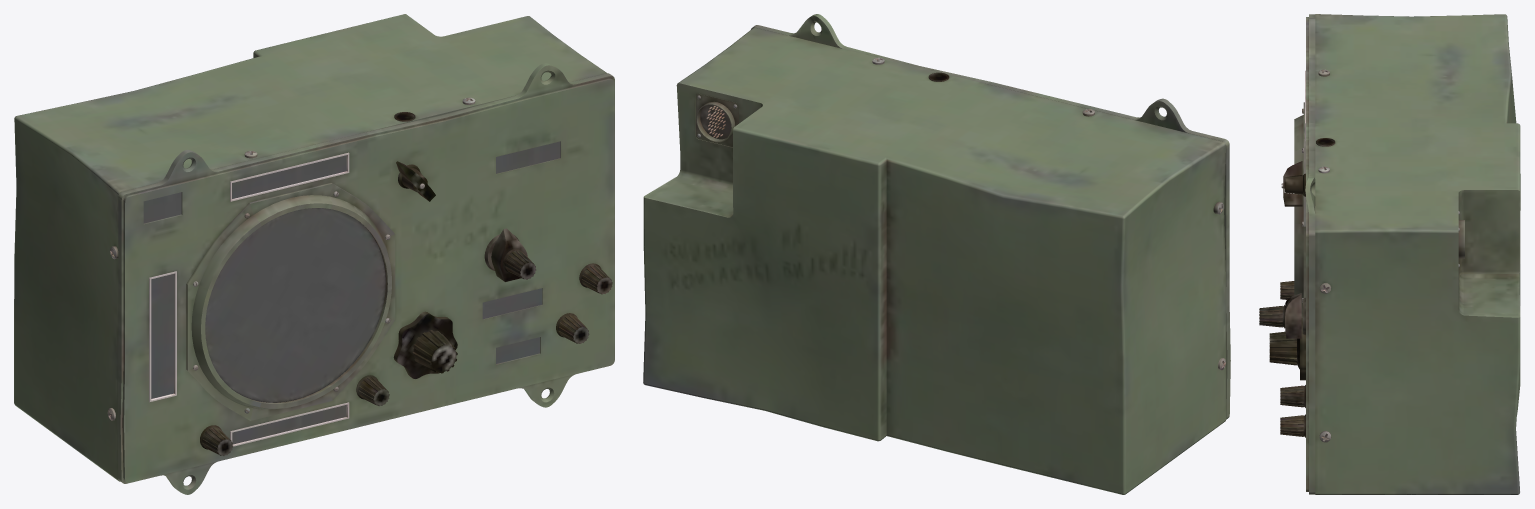
File: vintage_spacecraft_instrument_512.glb
3 renders of one model, left to right at view 1: azimuth 30°, elevation 25°; view 2: azimuth 150°, elevation 25°; view 3: azimuth 270°, elevation 25°, orthographic. The views are drawn at different scales.
Visible parts, largest first — view 1: vintage_spacecraft_instrument; view 2: vintage_spacecraft_instrument; view 3: vintage_spacecraft_instrument.
Boxes of the visible parts, x1,y1,x2,y2 form: vintage_spacecraft_instrument: (14,14,614,494); vintage_spacecraft_instrument: (643,14,1230,494); vintage_spacecraft_instrument: (1259,14,1520,494).
Size of the model in its own units: 0.4103 by 0.2693 by 0.2044.
Materials: 2 (2 with a texture image).
